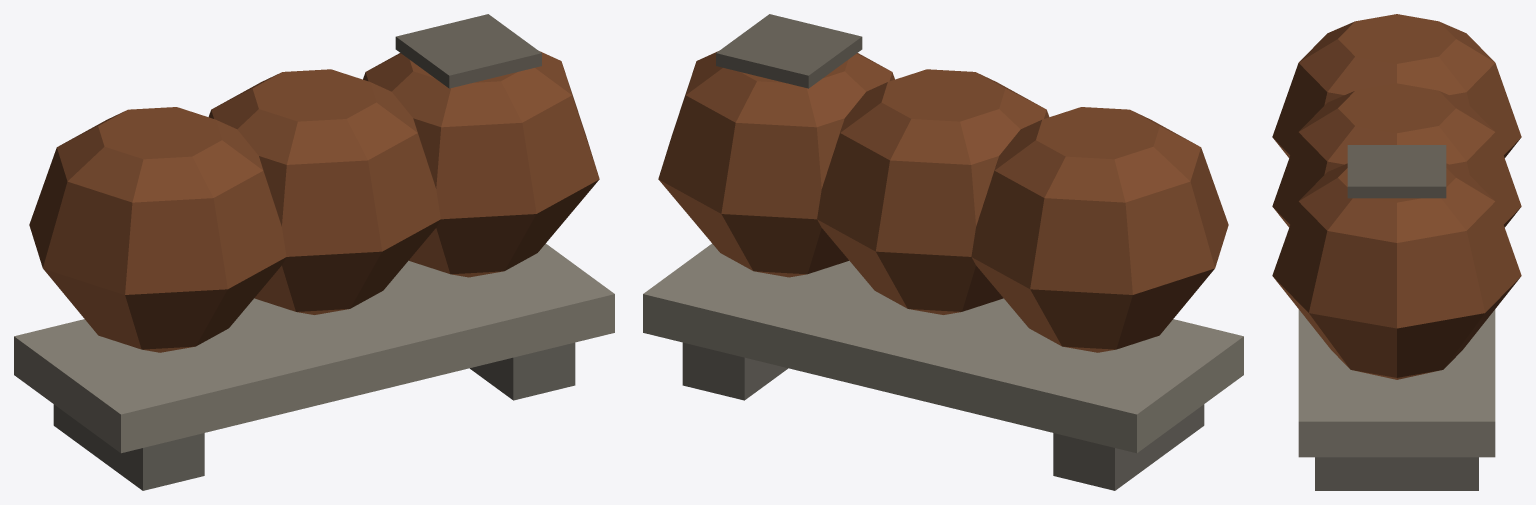
The model's file is a3s_jar_stand.glb.
The picture shows the model from 3 angles, left to right: view 1: azimuth 30°, elevation 25°; view 2: azimuth 150°, elevation 25°; view 3: azimuth 270°, elevation 25°; orthographic projection. The views are drawn at different scales.
Parts seen in each view (by area): view 1: a3s_jar_stand; view 2: a3s_jar_stand; view 3: a3s_jar_stand.
Boxes of the visible parts, box(x1,y1,x2,y2) form: a3s_jar_stand: box(14, 14, 614, 490); a3s_jar_stand: box(643, 14, 1243, 490); a3s_jar_stand: box(1272, 14, 1521, 490).
Bounding box in the file's own units: 1.76 × 1 × 0.76.
